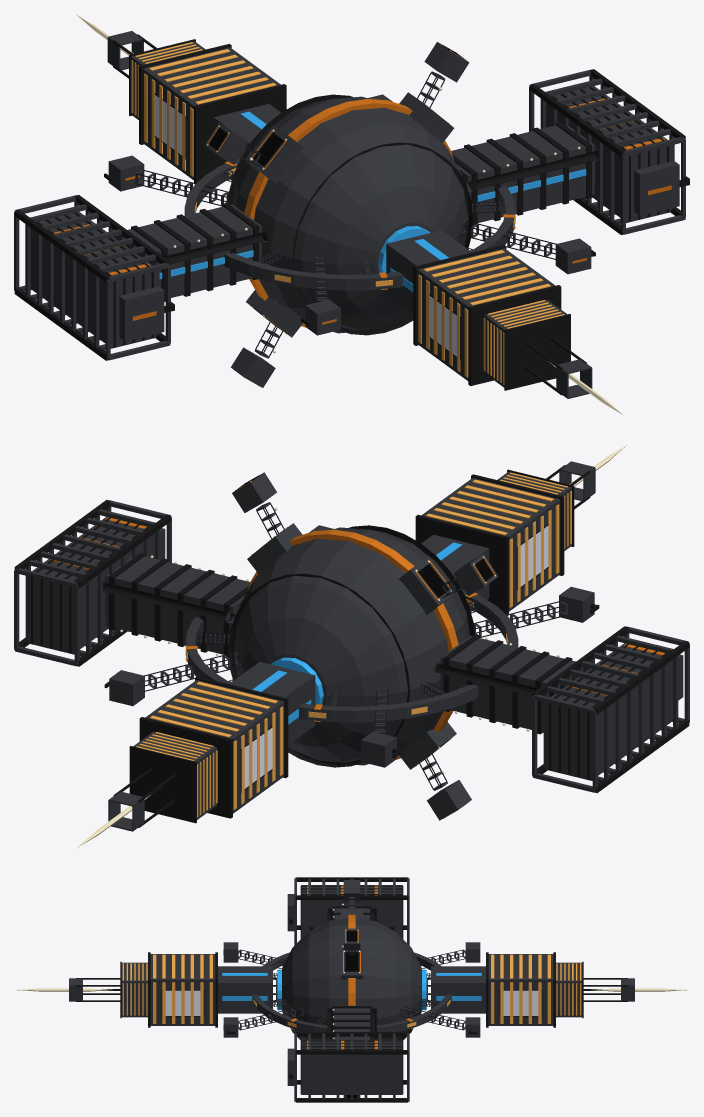
File: station1_posten.obj
The picture shows the model from 3 angles, top to bottom: view 1: azimuth 30°, elevation 25°; view 2: azimuth 150°, elevation 25°; view 3: azimuth 270°, elevation 25°; orthographic projection. The views are drawn at different scales.
Visible parts, largest first — view 1: hull, hull2, window, accent, cyan, ad, dark, light; view 2: hull, hull2, window, accent, ad, cyan, dark, light; view 3: hull, hull2, window, ad, cyan, accent, light, dark.
Boxes of the visible parts, x1,y1,x2,y2 form: hull: (14,31,685,398); hull2: (14,34,689,395); window: (131,42,564,384); accent: (54,44,671,385); cyan: (159,111,586,292); ad: (154,95,456,356); dark: (209,45,463,376); light: (76,14,622,414); hull: (14,461,689,831); hull2: (14,465,689,827); window: (136,472,571,817); accent: (50,475,664,818); ad: (244,525,548,788); cyan: (252,542,461,724); dark: (237,475,493,807); light: (77,445,626,847); hull: (69,878,634,1101); hull2: (76,877,627,1102); window: (122,954,581,1027); ad: (165,990,538,1015); cyan: (222,969,481,1010); accent: (223,885,413,1097); light: (17,903,686,1039); dark: (345,930,358,1097).
Size of the model in its own units: 73.13 by 35.05 by 120.
